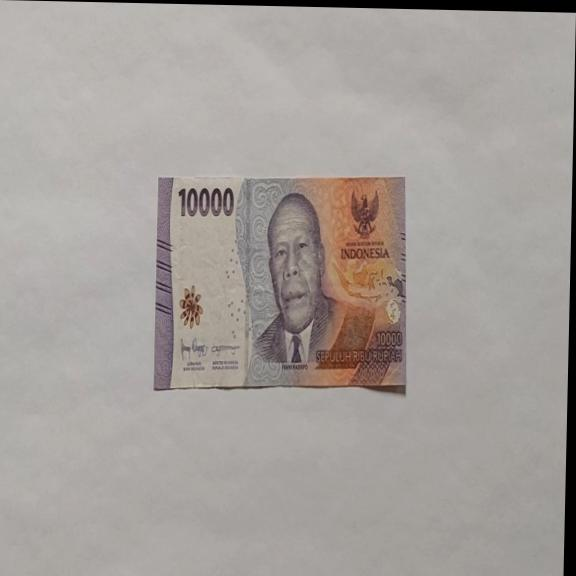Kertas: (153, 169, 411, 397), (176, 184, 235, 220)
